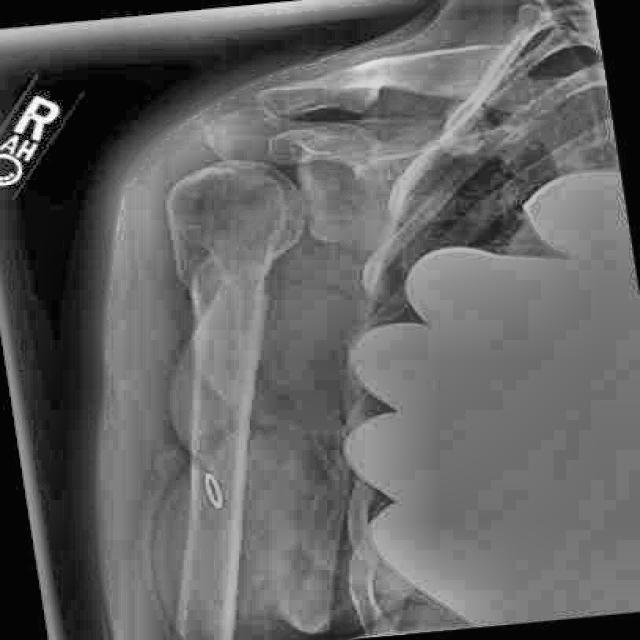shoulder fracture: (140, 253, 253, 348)
